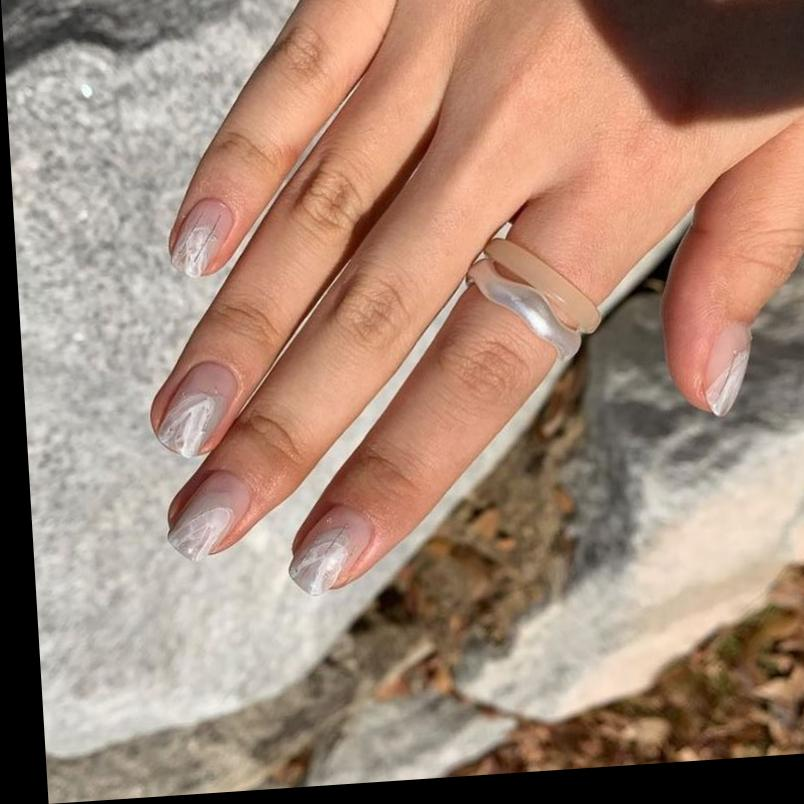nail: (148, 360, 243, 462), (282, 503, 377, 600), (161, 469, 254, 566), (164, 196, 238, 281), (696, 325, 757, 420)
